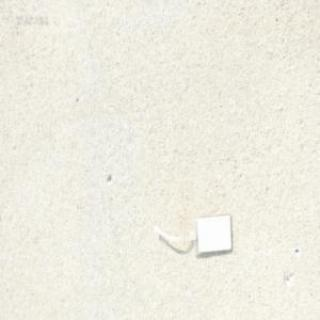LuggageTagtrack_idkeyframe: (153, 211, 232, 256)
